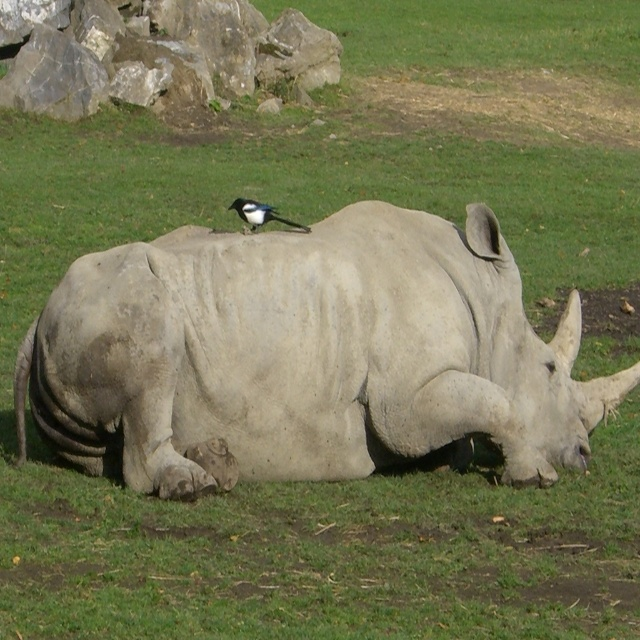Rhinoceros: (10, 195, 640, 499)
